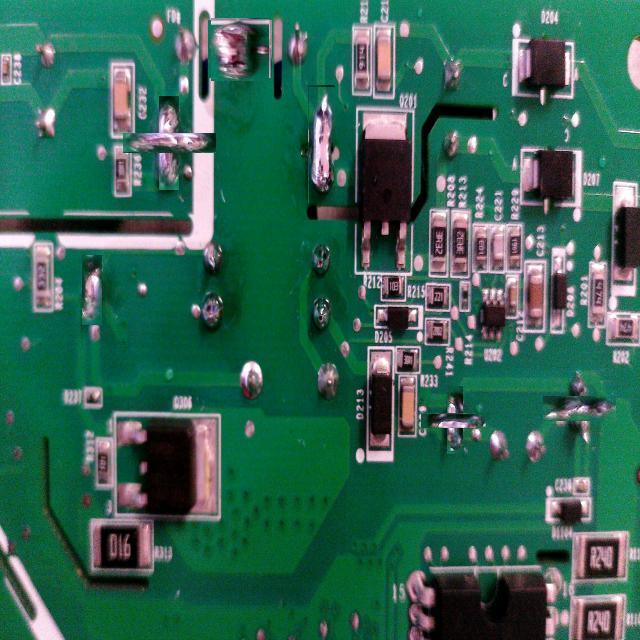Short_circuit: (210, 19, 270, 80), (141, 115, 198, 172), (308, 85, 335, 204), (555, 384, 604, 433), (434, 399, 476, 441), (81, 254, 102, 325)
